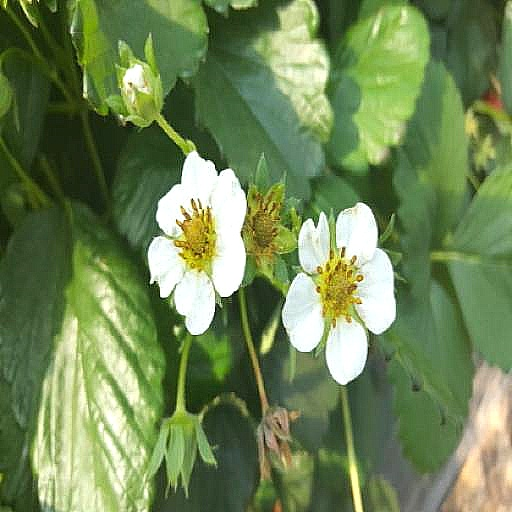Blossom Blight: (145, 243, 205, 332), (291, 196, 343, 276), (228, 194, 266, 254)
